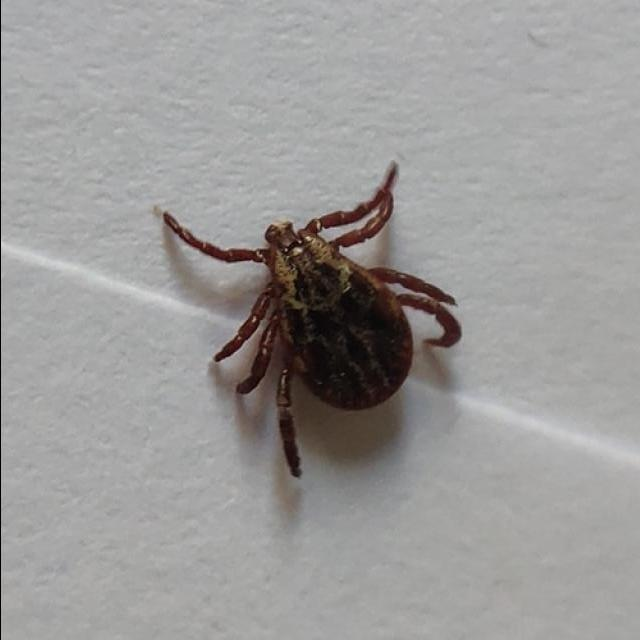Dermacentor Reticulatus-M: (159, 163, 458, 479)
